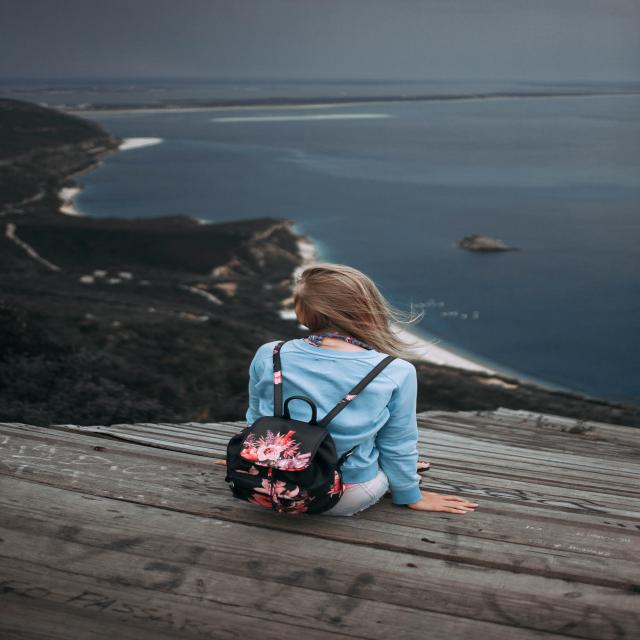backpack: (221, 338, 400, 523)
